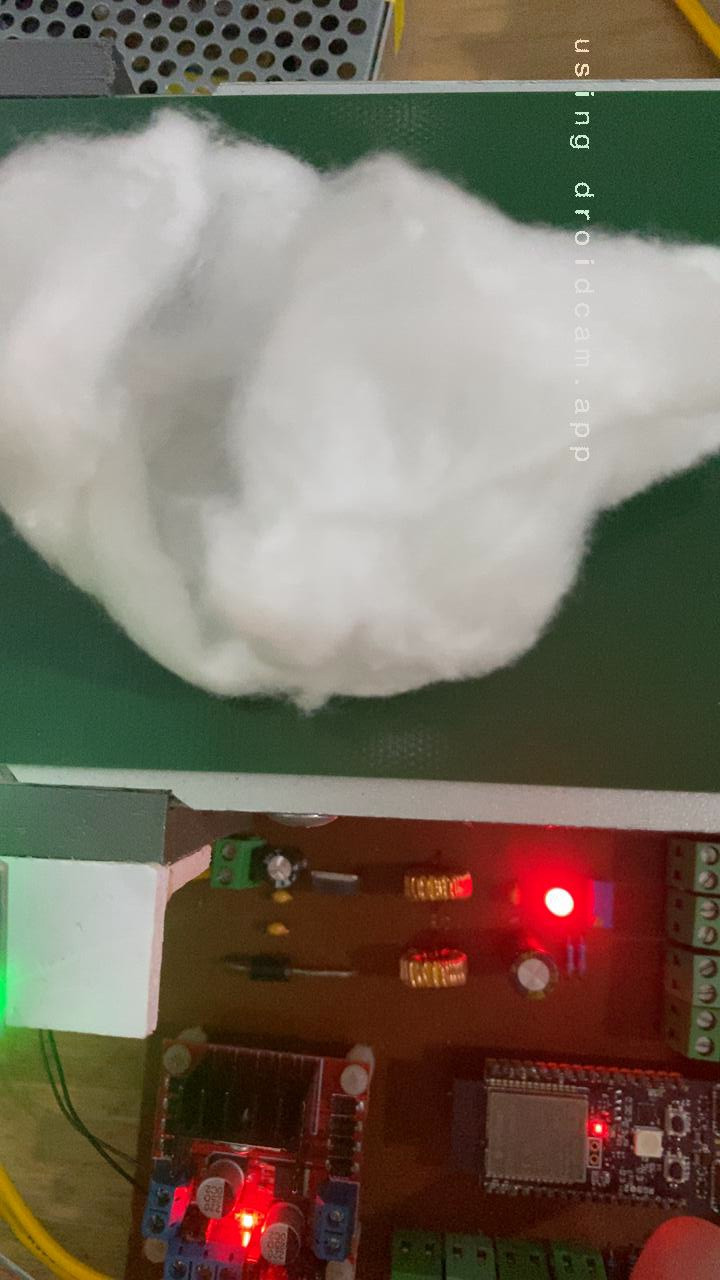cotton: (0, 93, 720, 723)
